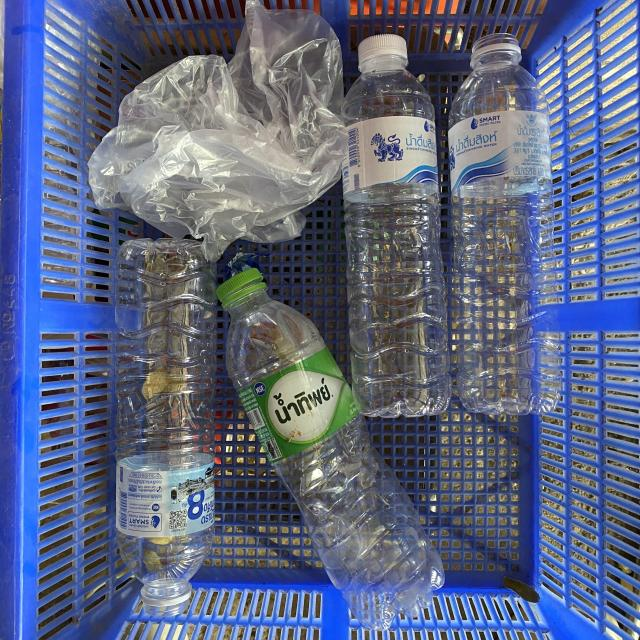Single-layer Plastic: (89, 0, 346, 261)
